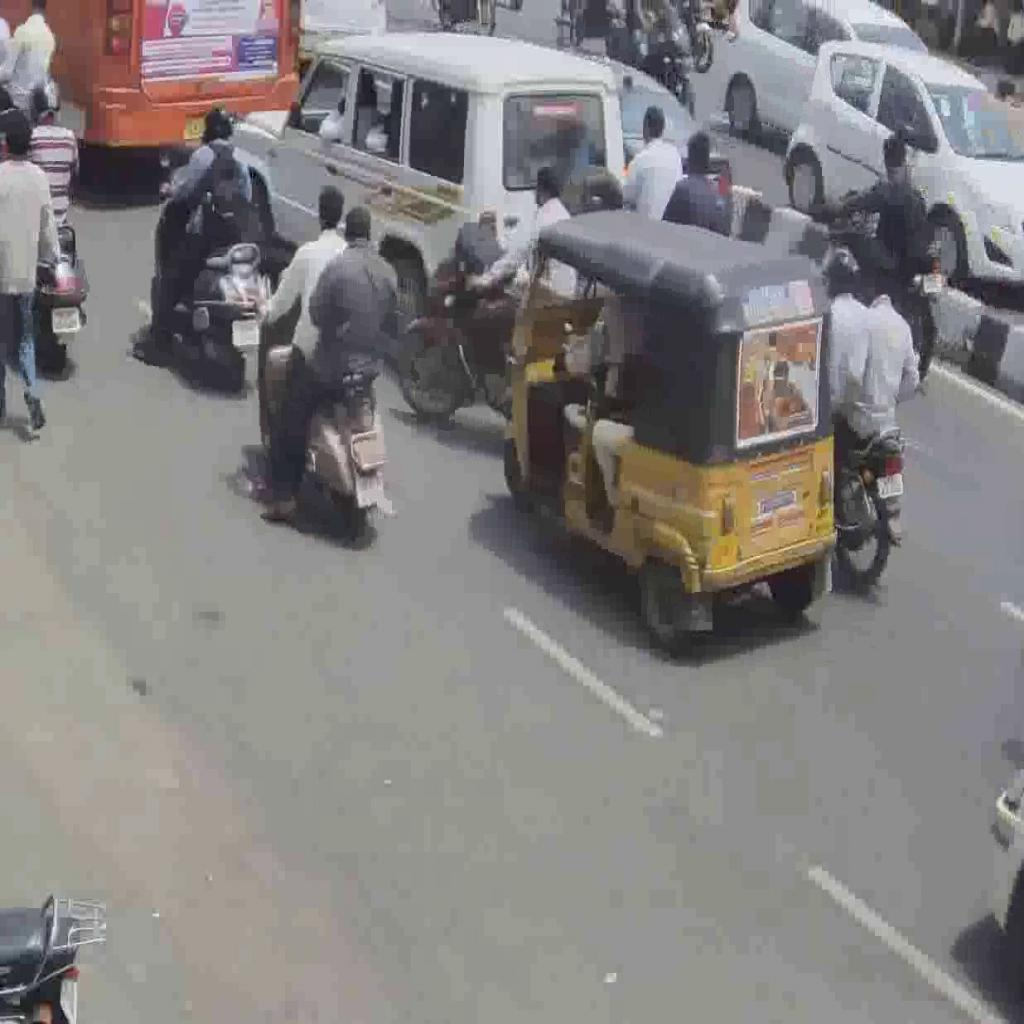helmet: (261, 204, 397, 519), (256, 265, 397, 542)
